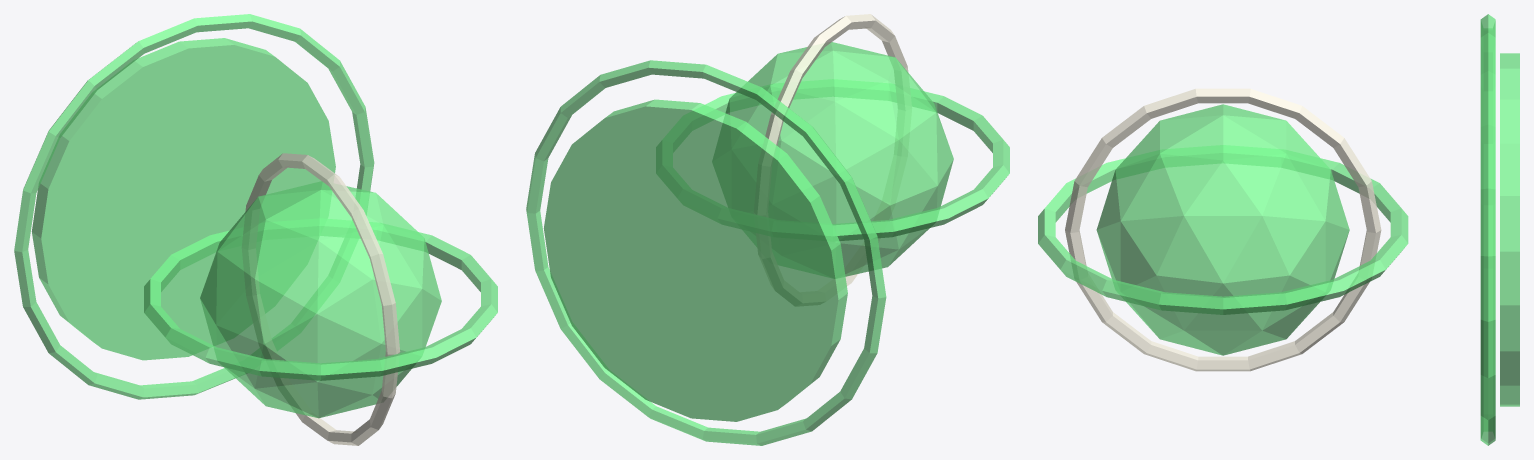
File: 06_healing_sprite_orb.glb
3 views of the same model, side by side, from view 1: azimuth 30°, elevation 25°; view 2: azimuth 150°, elevation 25°; view 3: azimuth 270°, elevation 25° (orthographic). The views are drawn at different scales.
Visible parts, largest first — view 1: base_disc, floating_core, base_ring, orbit_ring_x, orbit_ring_y; view 2: base_disc, floating_core, base_ring, orbit_ring_x, orbit_ring_y; view 3: floating_core, orbit_ring_x, orbit_ring_y, base_disc, base_ring.
Boxes of the visible parts, x1=… form: base_disc: x1=31, y1=38, x2=335, y2=360; floating_core: x1=200, y1=181, x2=441, y2=418; base_ring: x1=14, y1=14, x2=374, y2=399; orbit_ring_x: x1=144, y1=219, x2=497, y2=380; orbit_ring_y: x1=242, y1=153, x2=400, y2=445; base_disc: x1=543, y1=99, x2=847, y2=421; floating_core: x1=712, y1=42, x2=953, y2=278; base_ring: x1=526, y1=60, x2=886, y2=445; orbit_ring_x: x1=656, y1=79, x2=1009, y2=240; orbit_ring_y: x1=754, y1=14, x2=911, y2=305; floating_core: x1=1096, y1=104, x2=1349, y2=355; orbit_ring_x: x1=1038, y1=145, x2=1408, y2=314; orbit_ring_y: x1=1065, y1=88, x2=1381, y2=371; base_disc: x1=1500, y1=53, x2=1519, y2=406; base_ring: x1=1480, y1=14, x2=1495, y2=445.
Bounding box in the file's own units: 1.1 × 1.1 × 1.22.
